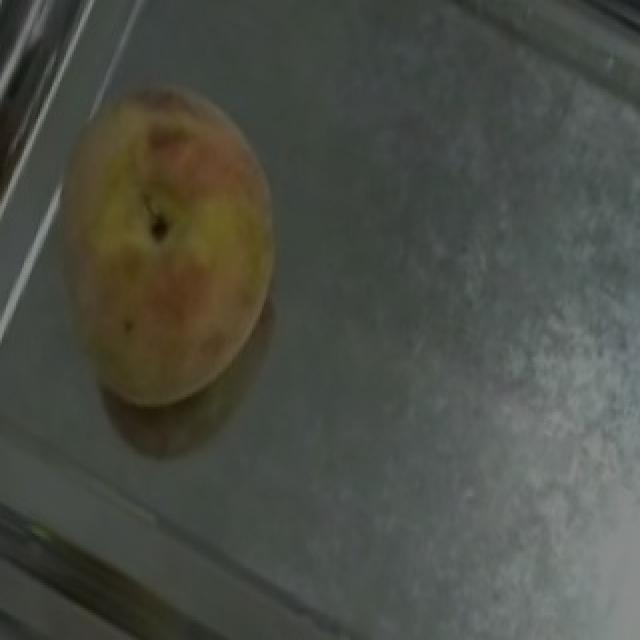Fruit: (10, 42, 328, 427)
